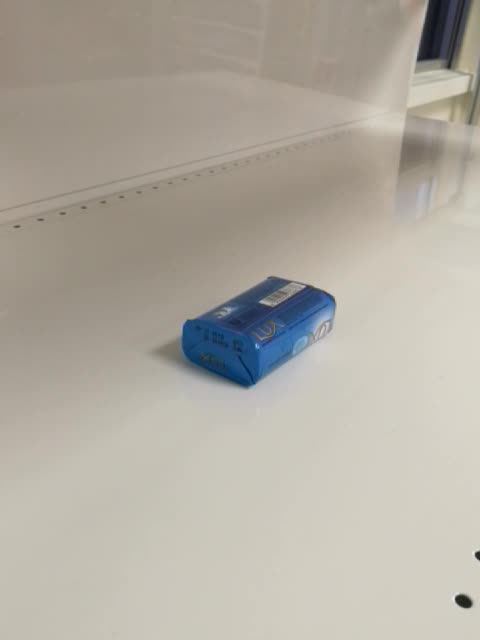soap: (180, 275, 337, 387)
